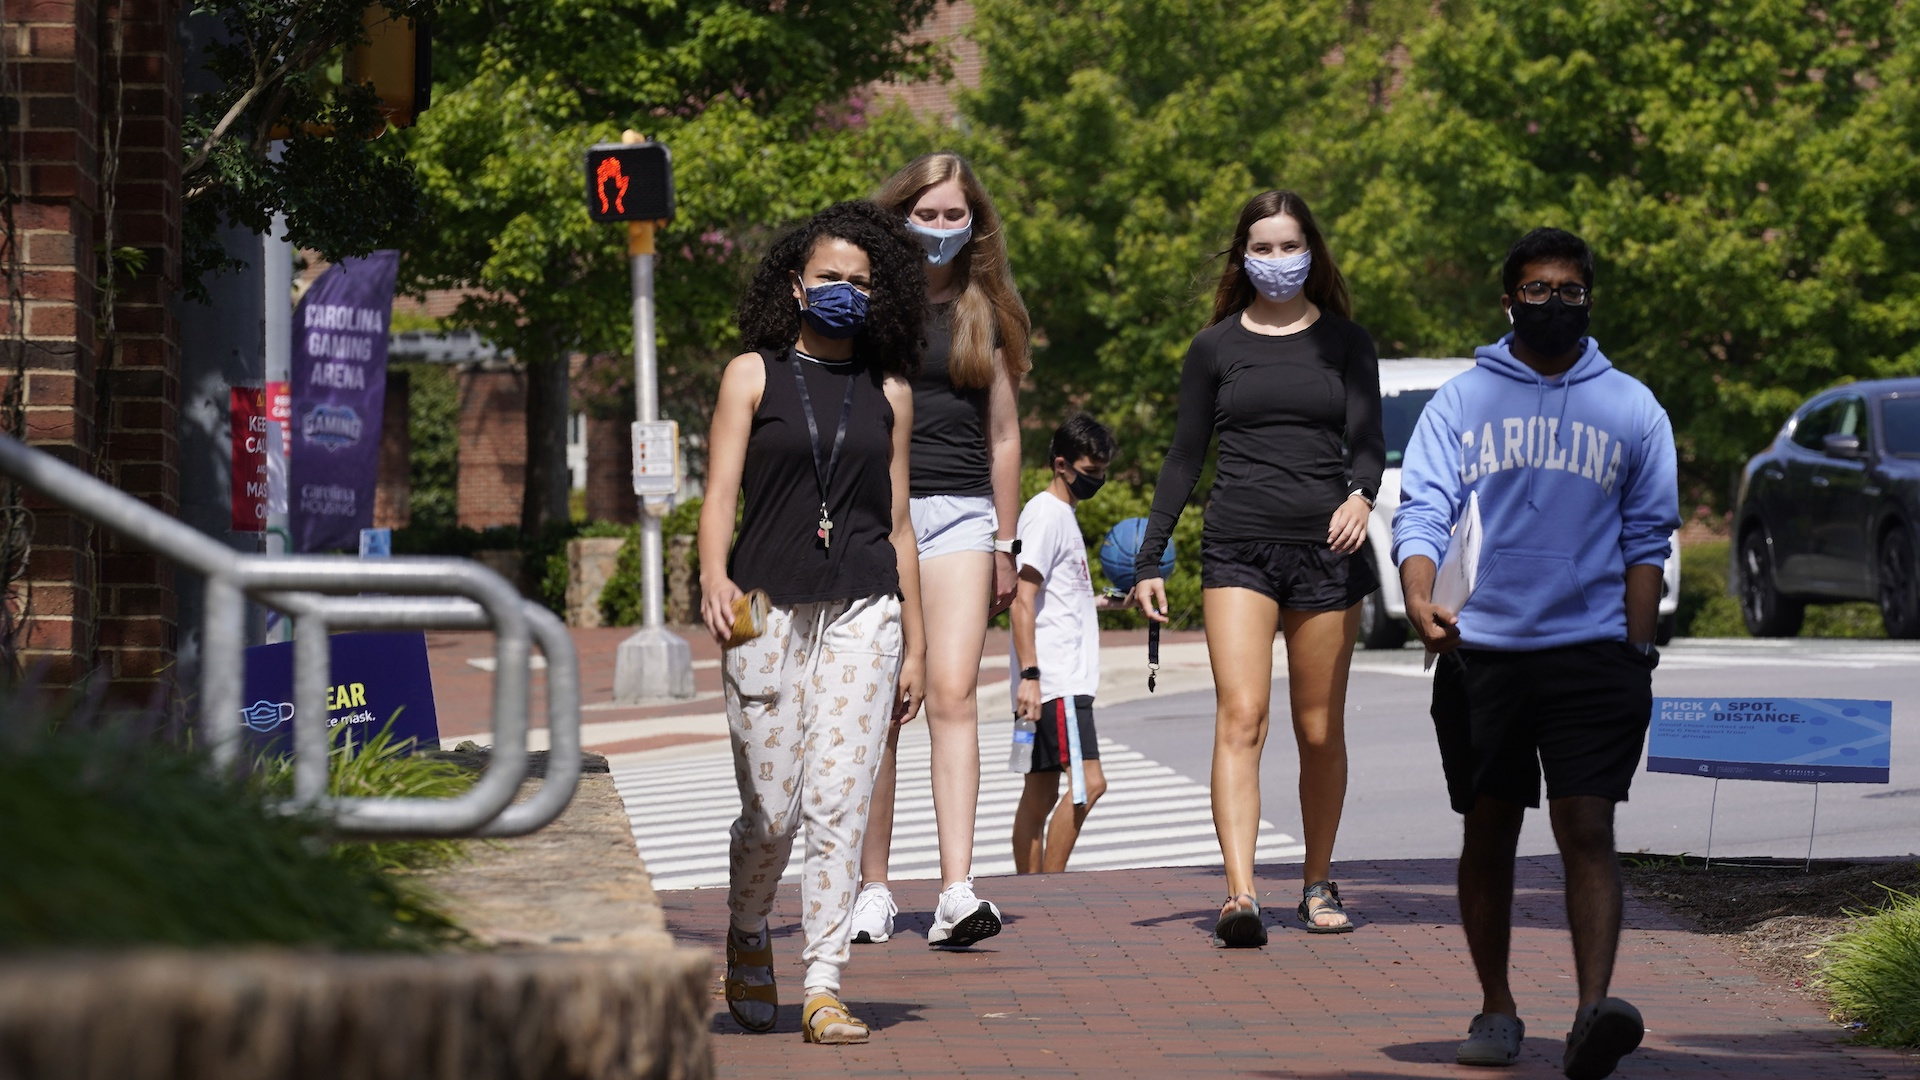with_mask: (791, 244, 870, 324), (1516, 255, 1583, 348), (1250, 221, 1312, 295), (910, 189, 975, 253)
